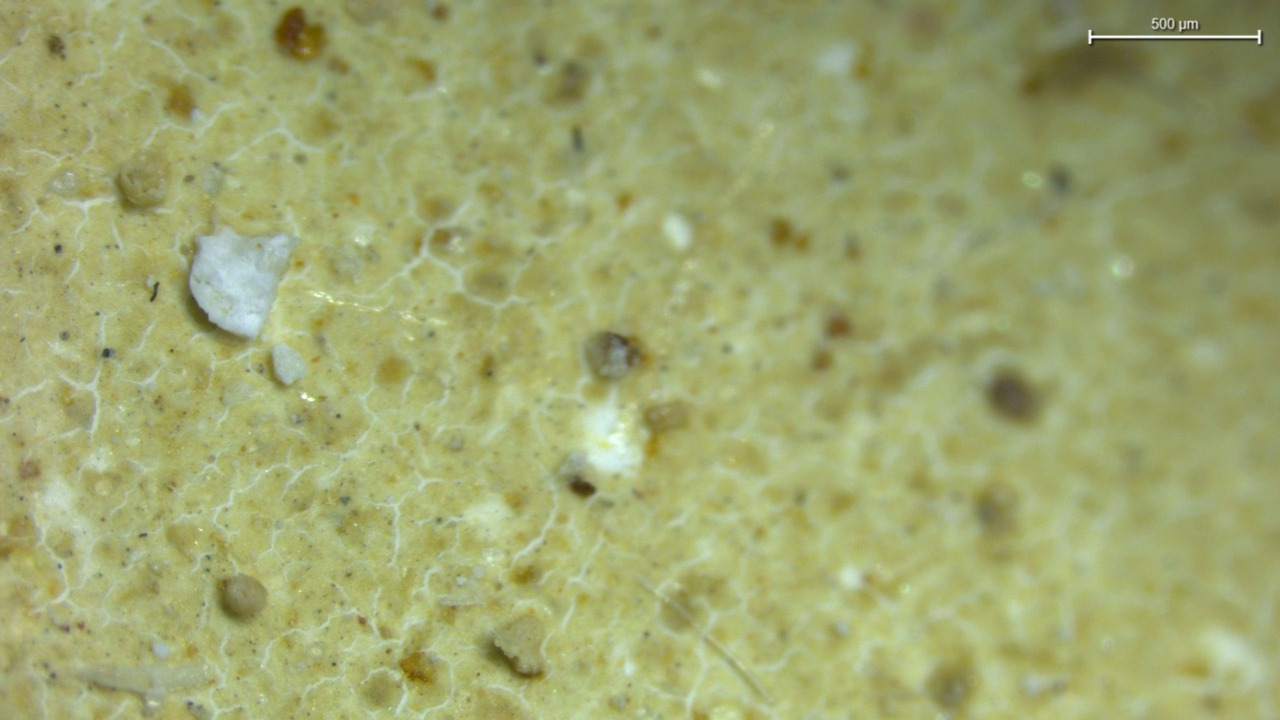microplastic_fragment: (189, 228, 299, 339), (493, 614, 546, 676), (115, 150, 169, 207), (219, 574, 267, 620), (286, 364, 293, 370)
